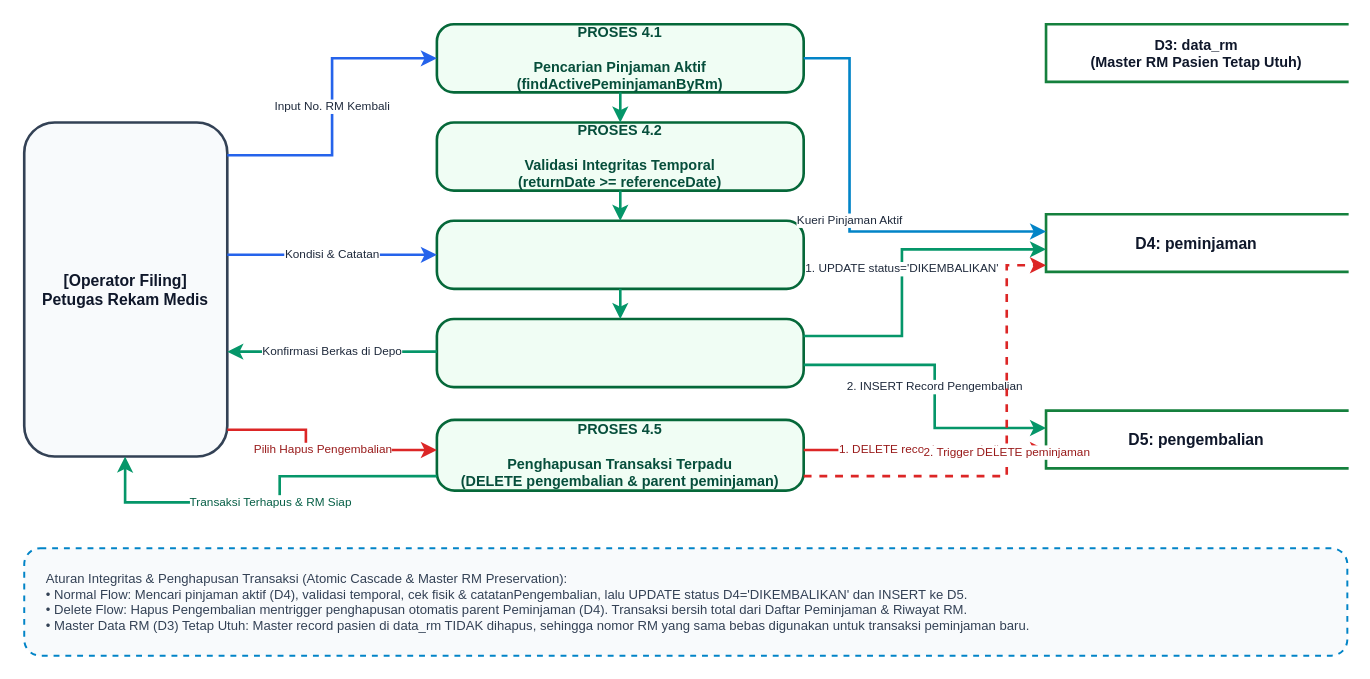
Some shapes in this 1370 by 679 pixel diagram are drawn without their labels. Each missing label, with the box of its shape:
PROSES 4.3 Pemeriksaan Fisik & Catatan (Kondisi & CatatanPengembalian): (435, 219, 804, 290)
PROSES 4.4 Pencatatan Pengembalian (UPDATE peminjaman & INSERT pengembalian): (435, 317, 804, 388)
